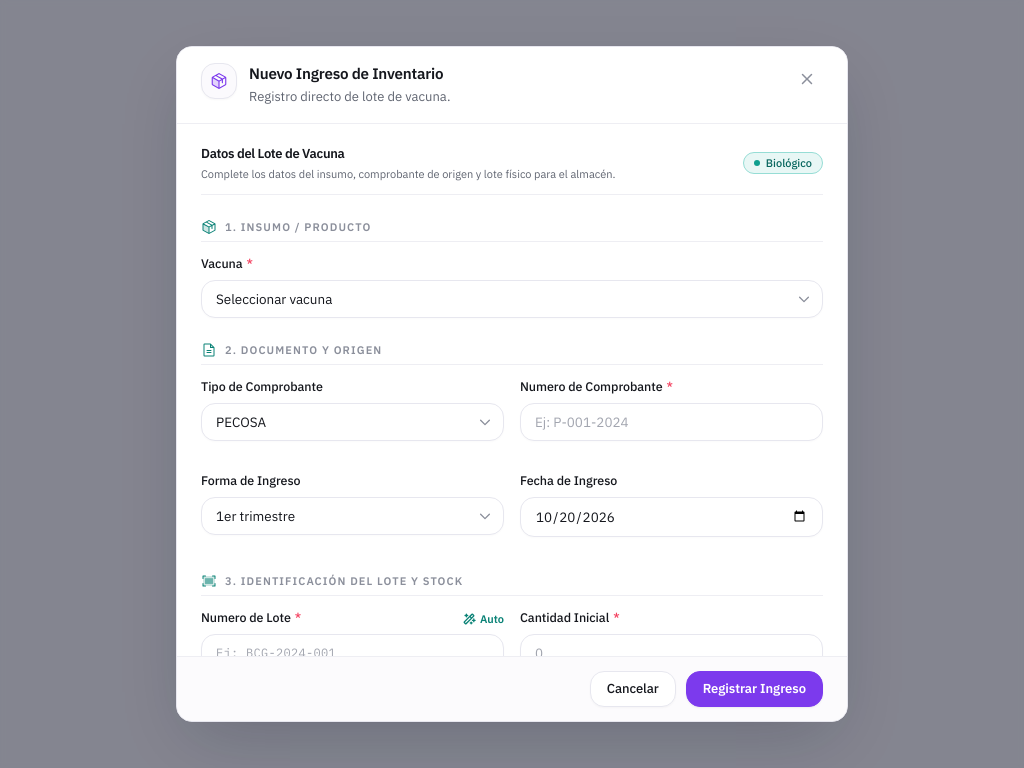
Test: NuevoIngreso Component › shows validation error for empty selection
Click the button "Registrar Ingreso" at [754, 689], box [686,671,823,707]
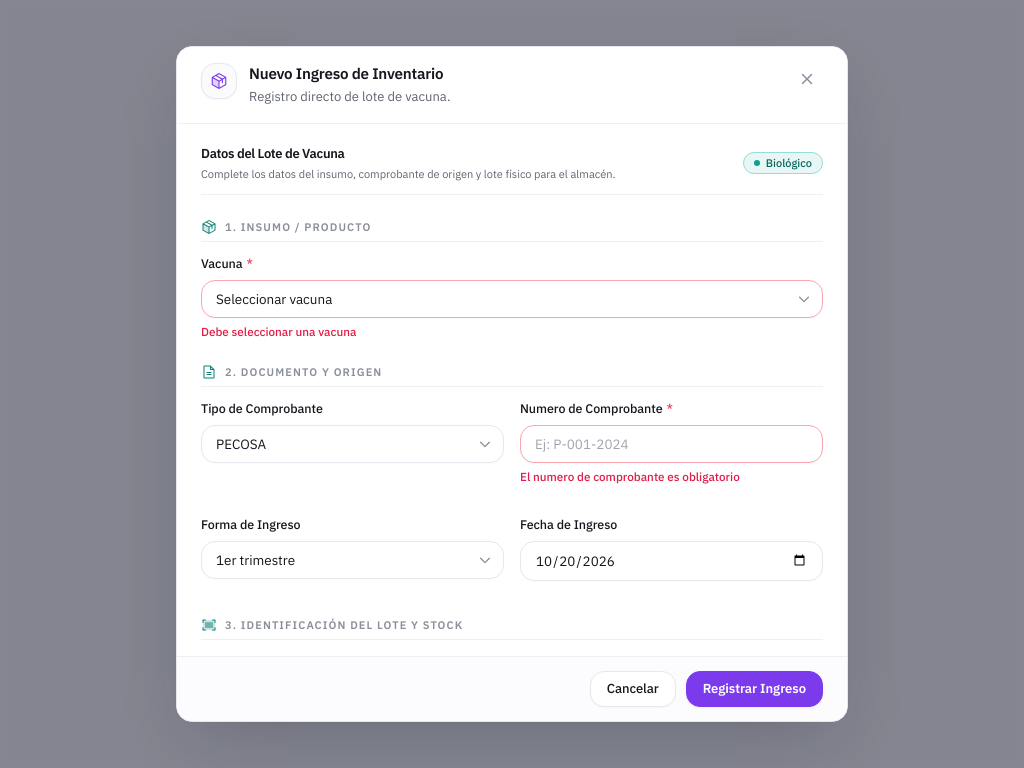
Expected: the text "Debe seleccionar una vacuna" is shown, [201,324,356,339]
